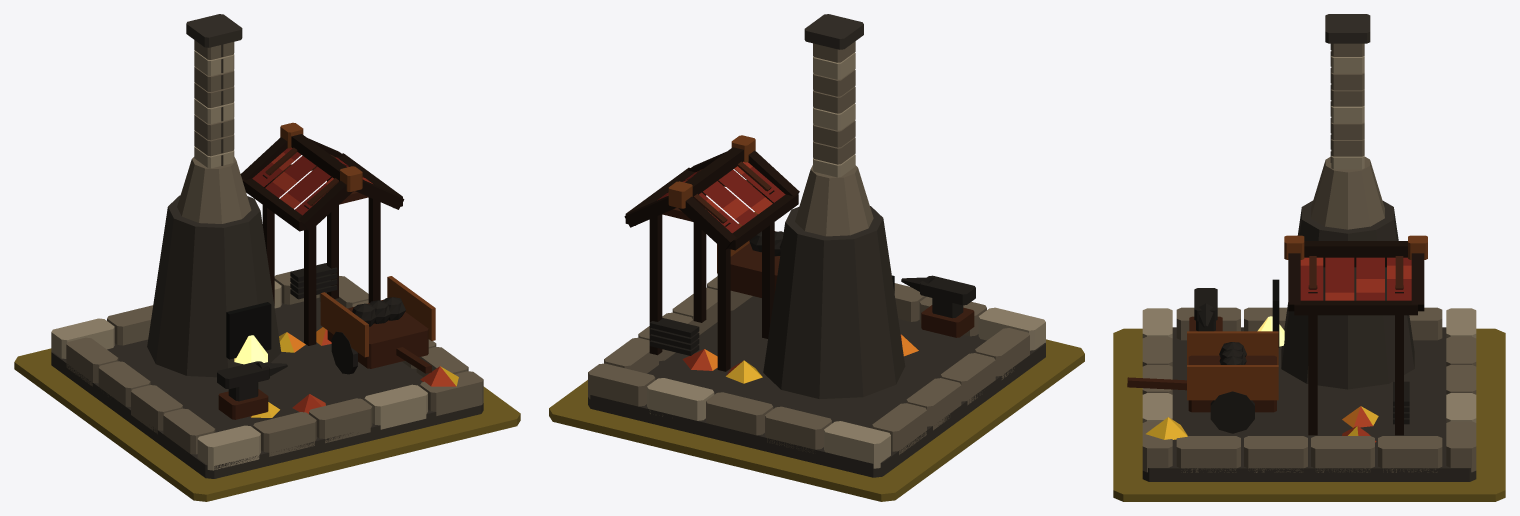
File: smeltery_t4.glb
The picture shows the model from 3 angles, left to right: view 1: azimuth 30°, elevation 25°; view 2: azimuth 150°, elevation 25°; view 3: azimuth 270°, elevation 25°; orthographic projection. The views are drawn at different scales.
Parts seen in each view (by area): view 1: MMR | smeltery | T04 Architecture.001, MMR | smeltery | Tier 04 Ground.001, MMR | smeltery | T04 Autumn Dressing.001, MMR | smeltery | T04 Flame Glow.001; view 2: MMR | smeltery | T04 Architecture.001, MMR | smeltery | Tier 04 Ground.001, MMR | smeltery | T04 Autumn Dressing.001; view 3: MMR | smeltery | T04 Architecture.001, MMR | smeltery | Tier 04 Ground.001, MMR | smeltery | T04 Autumn Dressing.001.
Part boxes in pixels (bbox=[...]): MMR | smeltery | T04 Architecture.001: bbox=[51, 14, 483, 478]; MMR | smeltery | Tier 04 Ground.001: bbox=[14, 348, 520, 501]; MMR | smeltery | T04 Autumn Dressing.001: bbox=[250, 327, 458, 417]; MMR | smeltery | T04 Flame Glow.001: bbox=[234, 335, 267, 364]; MMR | smeltery | T04 Architecture.001: bbox=[588, 14, 1045, 477]; MMR | smeltery | Tier 04 Ground.001: bbox=[549, 339, 1084, 501]; MMR | smeltery | T04 Autumn Dressing.001: bbox=[682, 334, 918, 383]; MMR | smeltery | T04 Architecture.001: bbox=[1127, 14, 1476, 481]; MMR | smeltery | Tier 04 Ground.001: bbox=[1113, 328, 1505, 501]; MMR | smeltery | T04 Autumn Dressing.001: bbox=[1146, 406, 1378, 442].
Bounding box in the file's own units: 2.35 × 2.5 × 2.35.
Materials: 2 (1 with a texture image).
